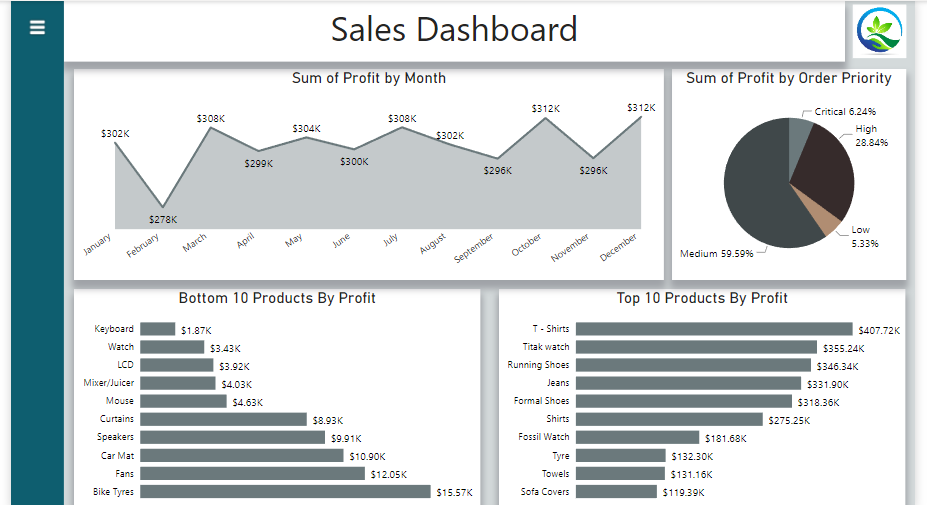

The dashboard page shown, as its layout file describes it:
{"tool":"powerbi","page":{"name":"Profit Overview","canvas":[1280,720],"ordinal":2},"visuals":[{"type":"textbox","title":"Menu BG","box":[0,0,75.1,720],"z":0,"group":"g3"},{"type":"image","box":[1182,0,97.8,86.5],"z":0,"group":"g2"},{"type":"group","id":"g1","title":"Charts","box":[89,96.4,1179.5,624.3],"z":0},{"type":"group","id":"g2","title":"Header","box":[75.1,0,1204.7,86.5],"z":1000},{"type":"textbox","box":[75.1,0,1106.9,86.5],"z":1000,"group":"g2"},{"type":"actionButton","title":"Menu","box":[20,20,35,35],"z":1000,"group":"g3"},{"type":"group","id":"g3","title":"Menu Bar","box":[0,0,75.1,720],"z":3000},{"type":"clusteredBarChart","title":"Bottom 10 Products By Profit","fields":{"Category":["Sales.Product"],"Y":["Sum(Sales.Profit)"]},"box":[89,408.2,576.2,312.4],"z":3000,"group":"g1"},{"type":"clusteredBarChart","title":"Top 10 Products By Profit","fields":{"Category":["Sales.Product"],"Y":["Sum(Sales.Profit)"]},"box":[692,408.2,576.2,312.4],"z":4000,"group":"g1"},{"type":"pieChart","fields":{"Y":["Sum(Sales.Profit)"],"Series":["Sales.Order Priority"]},"box":[936.8,96.4,331.7,299.1],"z":5000,"group":"g1"},{"type":"areaChart","fields":{"Category":["Sales.Order Date.Variation.Date Hierarchy.Month"],"Y":["Sum(Sales.Profit)"]},"box":[89.3,96.4,836.2,299.1],"z":6000,"group":"g1"}]}

Visuals, with their boxes in screenshot pixels (x1, y1, x2, y2), scaled from the page's 1280x720 canvas onto the 927x508 screenshot:
"Menu BG" textbox: (0,0,54,507)
image: (856,0,926,61)
"Charts" group: (64,68,919,507)
"Header" group: (54,0,926,61)
textbox: (54,0,856,61)
"Menu" actionButton: (14,14,40,39)
"Menu Bar" group: (0,0,54,507)
"Bottom 10 Products By Profit" clusteredBarChart: (64,288,482,507)
"Top 10 Products By Profit" clusteredBarChart: (501,288,918,507)
pieChart - Sum(Sales.Profit) x Sales.Order Priority: (678,68,919,279)
areaChart - Sales.Order Date.Variation.Date Hierarchy.Month x Sum(Sales.Profit): (65,68,670,279)
